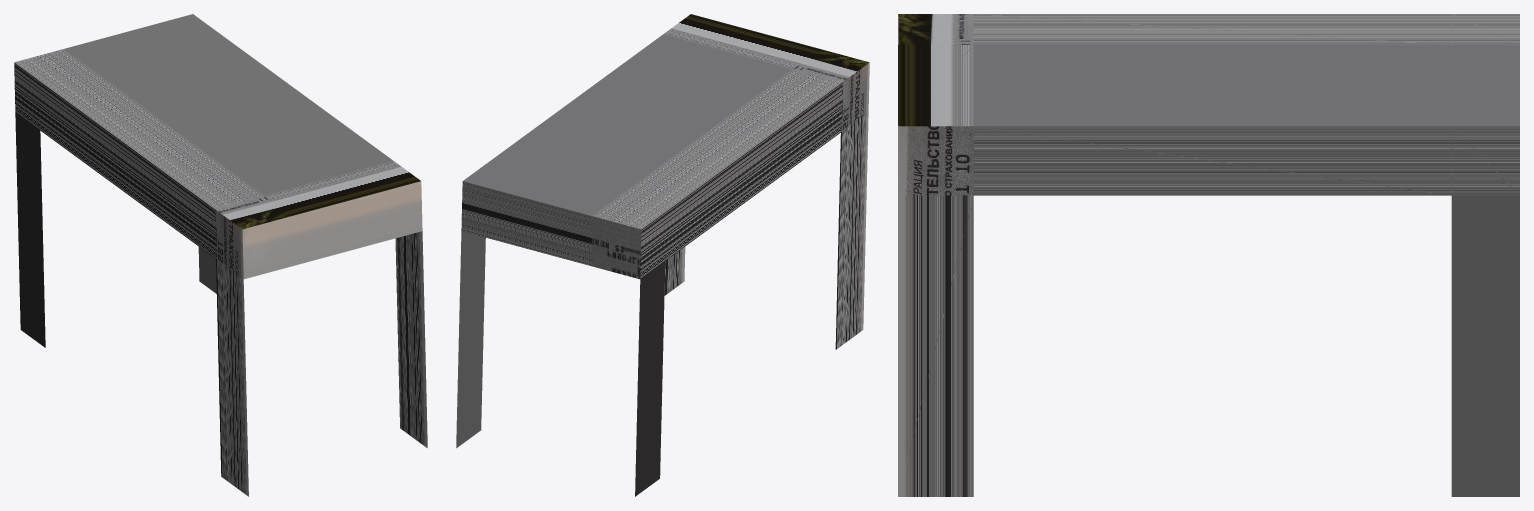
Rendered from Скамейка.gltf.
3 renders of one model, left to right at view 1: azimuth 30°, elevation 25°; view 2: azimuth 150°, elevation 25°; view 3: azimuth 270°, elevation 25°, orthographic. The views are drawn at different scales.
Visible parts, largest first — view 1: Cube; view 2: Cube; view 3: Cube.
Part boxes in pixels (<box>): Cube: <box>14,14,427,496</box>; Cube: <box>456,14,869,496</box>; Cube: <box>898,14,1519,496</box>.
Bounding box in the file's own units: 0.5028 × 0.7098 × 1.07.
1 material, 1 textured.
